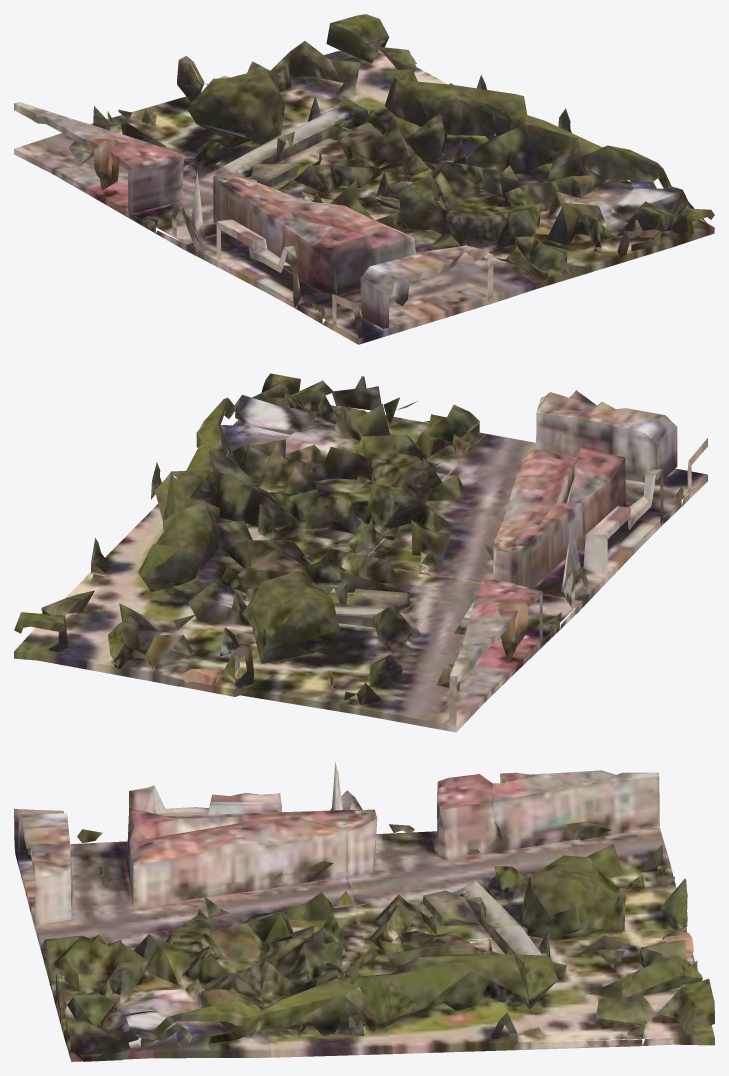
3 views of the same model, one above another, from view 1: azimuth 30°, elevation 25°; view 2: azimuth 150°, elevation 25°; view 3: azimuth 270°, elevation 25° (orthographic). The views are drawn at different scales.
Parts seen in each view (by area): view 1: Mesh_0; view 2: Mesh_0; view 3: Mesh_0.
Part boxes in pixels (left/top/right/bottom): Mesh_0: left=14, top=14, right=714, bottom=344; Mesh_0: left=14, top=373, right=707, bottom=732; Mesh_0: left=14, top=762, right=714, bottom=1061.
Size of the model in its own units: 266 by 50.65 by 330.
2 materials, 2 textured.
